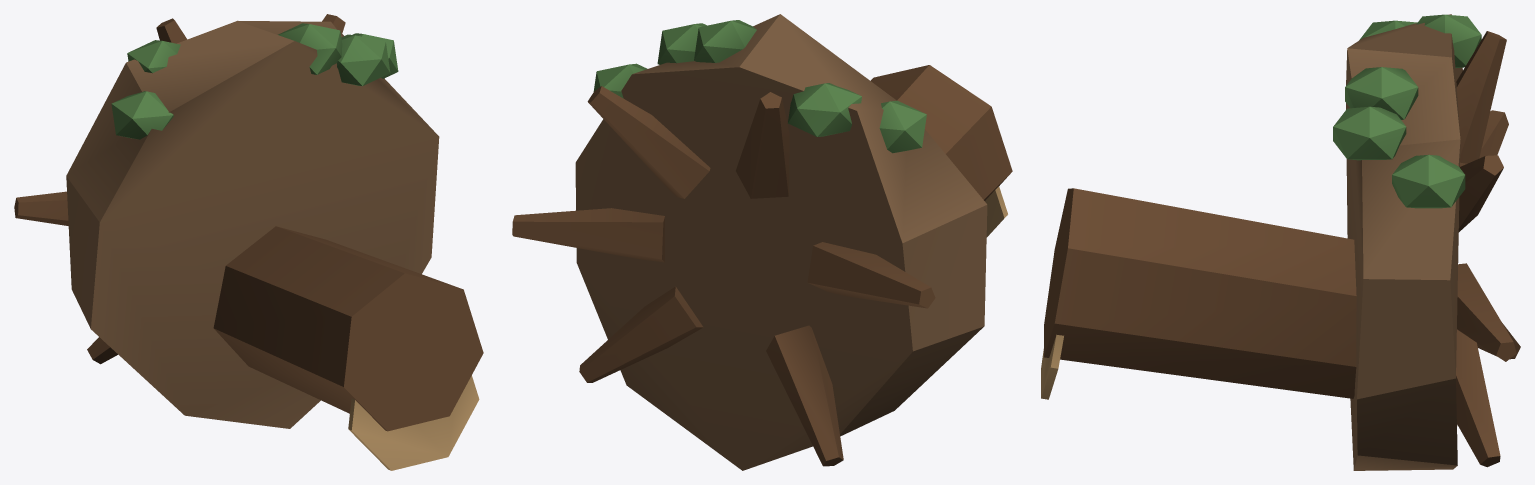
The model's file is root_plate.glb.
3 views of the same model, side by side, from view 1: azimuth 30°, elevation 25°; view 2: azimuth 150°, elevation 25°; view 3: azimuth 270°, elevation 25° (orthographic). The views are drawn at different scales.
Visible parts, largest first — view 1: RootPlate; view 2: RootPlate; view 3: RootPlate.
Part boxes in pixels (x1,y1,x2,y2): RootPlate: (14,14,483,470); RootPlate: (512,14,1012,470); RootPlate: (1041,14,1520,470).
Size of the model in its own units: 2.53 by 2.42 by 2.45.
1 material, 1 textured.
